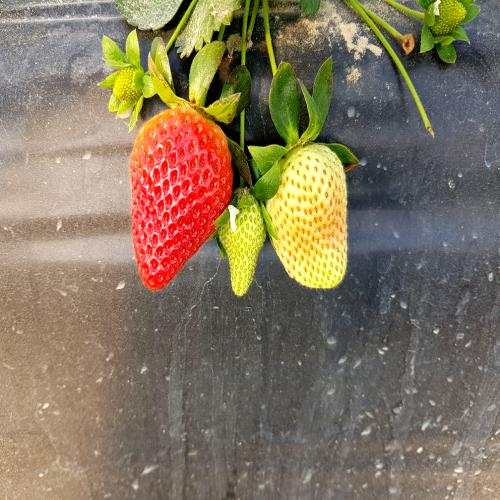ripe: (132, 74, 230, 314)
